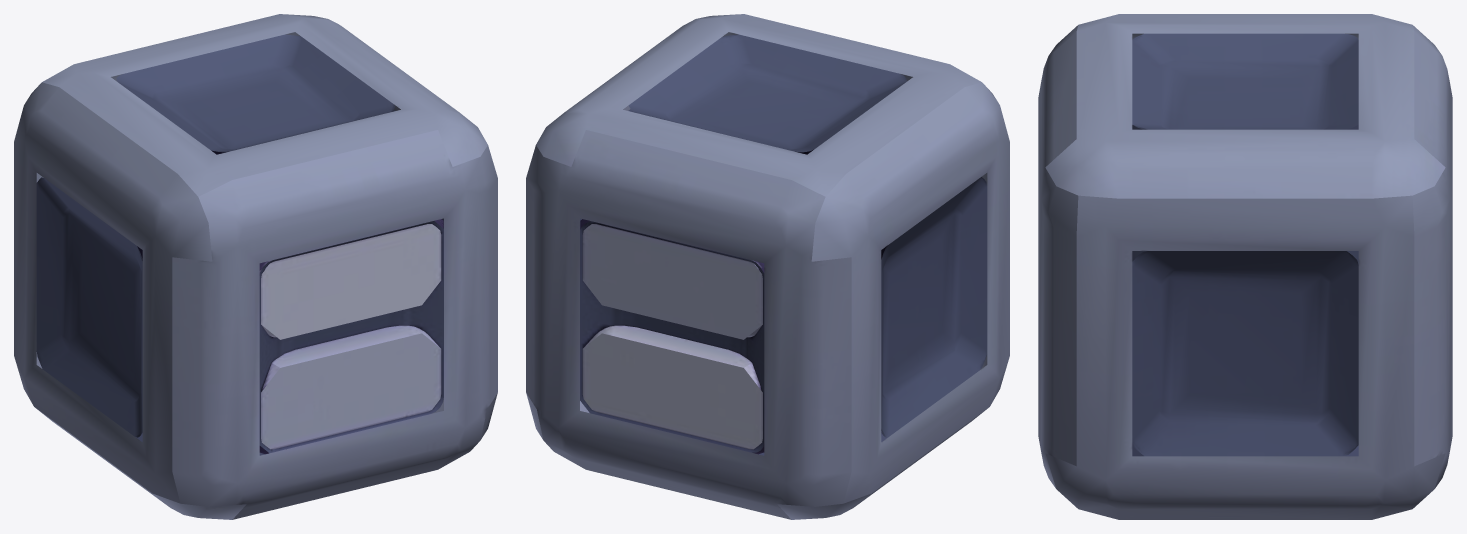
Rendered from tas1.glb.
The picture shows the model from 3 angles, left to right: view 1: azimuth 30°, elevation 25°; view 2: azimuth 150°, elevation 25°; view 3: azimuth 270°, elevation 25°; orthographic projection. The views are drawn at different scales.
Visible parts, largest first — view 1: tas1; view 2: tas1; view 3: tas1.
Part boxes in pixels (x1,y1,x2,y2): tas1: (14, 14, 497, 519); tas1: (526, 14, 1009, 519); tas1: (1038, 14, 1452, 519).
Bounding box in the file's own units: 1.51 × 1.51 × 1.51.
1 material, 1 textured.
